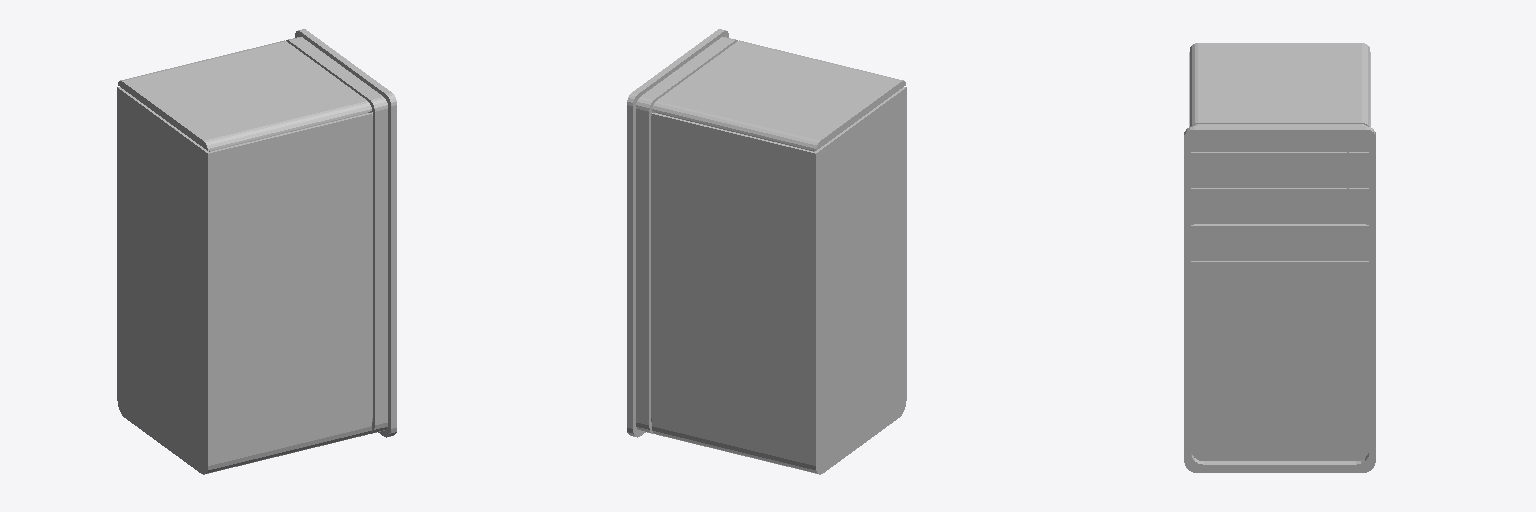
File: desktop.obj
3 renders of one model, left to right at view 1: azimuth 30°, elevation 25°; view 2: azimuth 150°, elevation 25°; view 3: azimuth 270°, elevation 25°, orthographic.
Visible parts, largest first — view 1: Cube; view 2: Cube; view 3: Cube.
Part boxes in pixels (left/top/right/bottom): Cube: left=117, top=29, right=396, bottom=474; Cube: left=627, top=29, right=906, bottom=474; Cube: left=1184, top=43, right=1375, bottom=472.
Size of the model in its own units: 5.16 by 9.08 by 4.6.